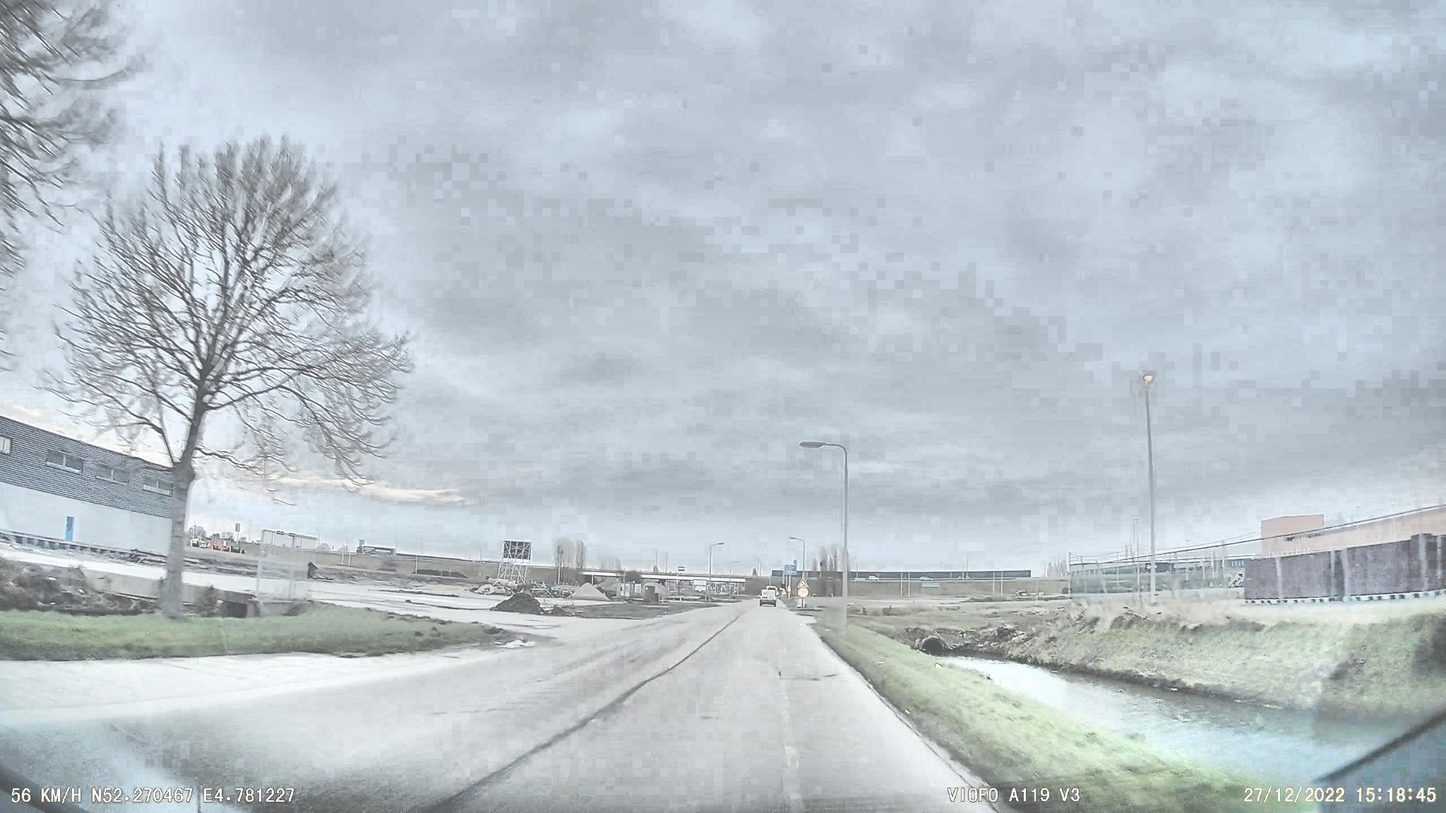Roads: (0, 606, 1116, 813)
